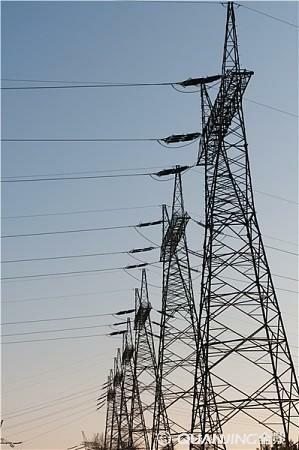power_tower: (191, 1, 299, 450), (152, 161, 215, 449), (131, 266, 166, 450)
